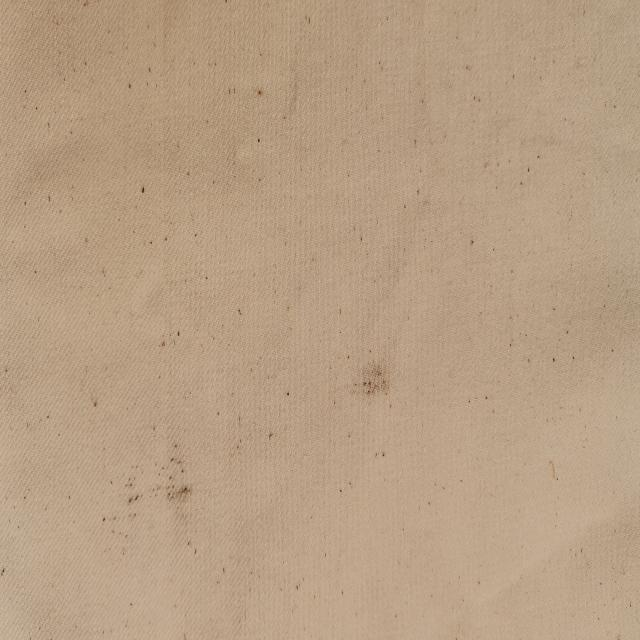taaaches: (354, 325, 400, 415), (156, 438, 198, 524), (109, 456, 142, 537)
